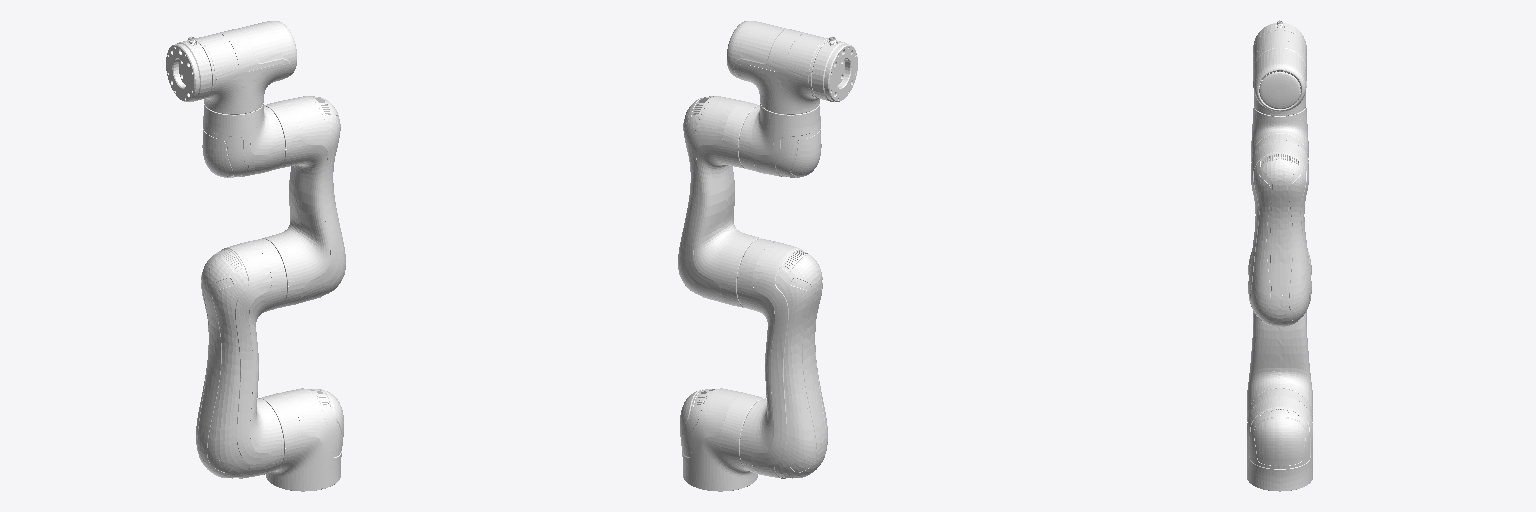
URDF robot description (me6_robot):
<?xml version="1.0" encoding="utf-8"?>
<!-- This URDF was automatically created by SolidWorks to URDF Exporter! Originally created by [author] ([email redacted]) 
     Commit Version: 1.6.0-1-g15f4949  Build Version: 1.6.7594.29634
     For more information, please see http://wiki.ros.org/sw_urdf_exporter -->
<robot
  name="me6_robot">
  <link name="dummy_link"/>
  <link
    name="base_link">
    <inertial>
      <origin
        xyz="-0.0240568795993814 0.00375533156407527 0.0319345452713943"
        rpy="0 0 0" />
      <mass
        value="0.285212529609956" />
      <inertia
        ixx="0.000396422919712692"
        ixy="-2.45771742761344E-06"
        ixz="-4.3086536609151E-05"
        iyy="0.000694067773935387"
        iyz="-1.70368663919635E-06"
        izz="0.000881589559792122" />
    </inertial>
    <visual>
      <origin
        xyz="0 0 0"
        rpy="0 0 0" />
      <geometry>
        <mesh
          filename="package://dobot_description/meshes/me6/base_link.STL" />
      </geometry>
      <material
        name="">
        <color
          rgba="1 1 1 1" />
      </material>
    </visual>
    <collision>
      <origin
        xyz="0 0 0"
        rpy="0 0 0" />
      <geometry>
        <mesh
          filename="package://dobot_description/meshes/me6/base_link.STL" />
      </geometry>
    </collision>
  </link>
  <joint
    name="dummy_joint"
    type="fixed">
    <parent
      link="dummy_link" />
    <child
      link="base_link" />
  </joint>
  <link
    name="Link1">
    <inertial>
      <origin
        xyz="-0.0083034891135278 0.000169963422442479 0.0273090165667047"
        rpy="0 0 0" />
      <mass
        value="0.0905534651015844" />
      <inertia
        ixx="0.000126000179432565"
        ixy="3.82915686953423E-07"
        ixz="2.6110576023655E-05"
        iyy="0.000106769415321957"
        iyz="-2.94192272889944E-07"
        izz="0.000110954758888466" />
    </inertial>
    <visual>
      <origin
        xyz="0 0 0"
        rpy="0 0 0" />
      <geometry>
        <mesh
          filename="package://dobot_description/meshes/me6/Link1.STL" />
      </geometry>
      <material
        name="">
        <color
          rgba="1 1 1 1" />
      </material>
    </visual>
    <collision>
      <origin
        xyz="0 0 0"
        rpy="0 0 0" />
      <geometry>
        <mesh
          filename="package://dobot_description/meshes/me6/Link1.STL" />
      </geometry>
    </collision>
  </link>
  <joint
    name="joint1"
    type="revolute">
    <origin
      xyz="0 0 0.1268"
      rpy="0 0 0" />
    <parent
      link="base_link" />
    <child
      link="Link1" />
    <axis
      xyz="0 0 1" />
    <limit
      lower="-6.28"
      upper="6.28"
      effort="0"
      velocity="0" />
  </joint>
  <link
    name="Link2">
    <inertial>
      <origin
        xyz="-3.08219150776858E-06 0.0879305908719406 0.0388340121175632"
        rpy="0 0 0" />
      <mass
        value="0.262143169591665" />
      <inertia
        ixx="0.00151705147157064"
        ixy="-9.05783800425971E-08"
        ixz="-2.30358806459891E-08"
        iyy="0.000184651484640178"
        iyz="5.92489195475674E-06"
        izz="0.00160256161333827" />
    </inertial>
    <visual>
      <origin
        xyz="0 0 0"
        rpy="0 0 0" />
      <geometry>
        <mesh
          filename="package://dobot_description/meshes/me6/Link2.STL" />
      </geometry>
      <material
        name="">
        <color
          rgba="1 1 1 1" />
      </material>
    </visual>
    <collision>
      <origin
        xyz="0 0 0"
        rpy="0 0 0" />
      <geometry>
        <mesh
          filename="package://dobot_description/meshes/me6/Link2.STL" />
      </geometry>
    </collision>
  </link>
  <joint
    name="joint2"
    type="revolute">
    <origin
      xyz="-0.046 0 0.04"
      rpy="1.5708 0 -1.5708" />
    <parent
      link="Link1" />
    <child
      link="Link2" />
    <axis
      xyz="0 0 1" />
    <limit
      lower="-2.356"
      upper="2.356"
      effort="0"
      velocity="0" />
  </joint>
  <link
    name="Link3">
    <inertial>
      <origin
        xyz="0.000287552185448503 0.071655088852445 -0.0471165778156417"
        rpy="0 0 0" />
      <mass
        value="0.165777554463868" />
      <inertia
        ixx="0.000830428352662996"
        ixy="2.8181042521152E-06"
        ixz="-9.46588589577167E-07"
        iyy="0.000136357822793152"
        iyz="3.34896030109504E-05"
        izz="0.000875008990596281" />
    </inertial>
    <visual>
      <origin
        xyz="0 0 0"
        rpy="0 0 0" />
      <geometry>
        <mesh
          filename="package://dobot_description/meshes/me6/Link3.STL" />
      </geometry>
      <material
        name="">
        <color
          rgba="1 1 1 1" />
      </material>
    </visual>
    <collision>
      <origin
        xyz="0 0 0"
        rpy="0 0 0" />
      <geometry>
        <mesh
          filename="package://dobot_description/meshes/me6/Link3.STL" />
      </geometry>
    </collision>
  </link>
  <joint
    name="joint3"
    type="revolute">
    <origin
      xyz="0 0.18906 0.003"
      rpy="0 0 0" />
    <parent
      link="Link2" />
    <child
      link="Link3" />
    <axis
      xyz="0 0 1" />
    <limit
      lower="-2.6878"
      upper="2.6878"
      effort="0"
      velocity="0" />
  </joint>
  <link
    name="Link4">
    <inertial>
      <origin
        xyz="4.09285774923343E-06 0.00868445353374203 0.0236778972827499"
        rpy="0 0 0" />
      <mass
        value="0.0513325001478492" />
      <inertia
        ixx="4.01013411471145E-05"
        ixy="-1.20578032972286E-09"
        ixz="-4.45580261969494E-09"
        iyy="4.5290271173066E-05"
        iyz="-1.00105786014305E-05"
        izz="4.79740476320818E-05" />
    </inertial>
    <visual>
      <origin
        xyz="0 0 0"
        rpy="0 0 0" />
      <geometry>
        <mesh
          filename="package://dobot_description/meshes/me6/Link4.STL" />
      </geometry>
      <material
        name="">
        <color
          rgba="1 1 1 1" />
      </material>
    </visual>
    <collision>
      <origin
        xyz="0 0 0"
        rpy="0 0 0" />
      <geometry>
        <mesh
          filename="package://dobot_description/meshes/me6/Link4.STL" />
      </geometry>
    </collision>
  </link>
  <joint
    name="joint4"
    type="revolute">
    <origin
      xyz="0 0.16 0.005"
      rpy="0 0 0" />
    <parent
      link="Link3" />
    <child
      link="Link4" />
    <axis
      xyz="0 0 1" />
    <limit
      lower="-2.7925"
      upper="2.7925"
      effort="0"
      velocity="0" />
  </joint>
  <link
    name="Link5">
    <inertial>
      <origin
        xyz="0.0105483555263245 3.64597044475367E-06 0.0262055886148362"
        rpy="0 0 0" />
      <mass
        value="0.0698692996111581" />
      <inertia
        ixx="5.60115215664426E-05"
        ixy="-7.74590413803E-09"
        ixz="8.25739718196742E-06"
        iyy="5.44754597177232E-05"
        iyz="2.95354323871408E-09"
        izz="6.26975970041226E-05" />
    </inertial>
    <visual>
      <origin
        xyz="0 0 0"
        rpy="0 0 0" />
      <geometry>
        <mesh
          filename="package://dobot_description/meshes/me6/Link5.STL" />
      </geometry>
      <material
        name="">
        <color
          rgba="1 1 1 1" />
      </material>
    </visual>
    <collision>
      <origin
        xyz="0 0 0"
        rpy="0 0 0" />
      <geometry>
        <mesh
          filename="package://dobot_description/meshes/me6/Link5.STL" />
      </geometry>
    </collision>
  </link>
  <joint
    name="joint5"
    type="revolute">
    <origin
      xyz="0 0.067 0.032"
      rpy="-1.5708 1.5708 0" />
    <parent
      link="Link4" />
    <child
      link="Link5" />
    <axis
      xyz="0 0 1" />
    <limit
      lower="-3.0194"
      upper="3.0194"
      effort="0"
      velocity="0" />
  </joint>
  <link
    name="Link6">
    <inertial>
      <origin
        xyz="-9.26807198336826E-06 0.00202791129000202 0.0111078385958137"
        rpy="0 0 0" />
      <mass
        value="0.0200378152167263" />
      <inertia
        ixx="7.30357563767904E-06"
        ixy="2.93853237811271E-09"
        ixz="2.10157561923958E-10"
        iyy="6.84457889267137E-06"
        iyz="-3.06988248779752E-08"
        izz="1.29091396053918E-05" />
    </inertial>
    <visual>
      <origin
        xyz="0 0 0"
        rpy="0 0 0" />
      <geometry>
        <mesh
          filename="package://dobot_description/meshes/me6/Link6.STL" />
      </geometry>
      <material
        name="">
        <color
          rgba="1 1 1 1" />
      </material>
    </visual>
    <collision>
      <origin
        xyz="0 0 0"
        rpy="0 0 0" />
      <geometry>
        <mesh
          filename="package://dobot_description/meshes/me6/Link6.STL" />
      </geometry>
    </collision>
  </link>
  <joint
    name="joint6"
    type="revolute">
    <origin
      xyz="-0.047 0 0.034"
      rpy="1.5708 0 -1.5708" />
    <parent
      link="Link5" />
    <child
      link="Link6" />
    <axis
      xyz="0 0 1" />
    <limit
      lower="-6.28"
      upper="6.28"
      effort="0"
      velocity="0" />
  </joint>
</robot>

--- Facts derived from the render (not from the file) ---
3 views of the same robot in one strip: view 1: azimuth 30°, elevation 25°; view 2: azimuth 150°, elevation 25°; view 3: azimuth 270°, elevation 25° (orthographic).
Robot: me6_robot — 8 links, 7 joints (6 revolute, 1 fixed); root link dummy_link; default pose: every joint at zero.
Links seen in each view (by area): view 1: Link2, Link3, Link5, Link1, Link4, Link6; view 2: Link2, Link3, Link5, Link1, Link4, Link6; view 3: Link3, Link1, Link2, Link5, Link4.
Link boxes in pixels (x1,y1,x2,y2): Link2: [196, 239, 286, 478]; Link3: [262, 96, 345, 307]; Link5: [195, 21, 296, 114]; Link1: [259, 388, 343, 491]; Link4: [202, 103, 285, 177]; Link6: [166, 36, 211, 101]; Link2: [737, 239, 827, 478]; Link3: [678, 96, 761, 307]; Link5: [727, 21, 828, 114]; Link1: [680, 388, 764, 491]; Link4: [738, 103, 821, 177]; Link6: [812, 36, 857, 101]; Link3: [1248, 134, 1311, 326]; Link1: [1247, 388, 1312, 491]; Link2: [1247, 252, 1312, 414]; Link5: [1253, 29, 1306, 115]; Link4: [1251, 108, 1308, 161].
Bounding box of the posed robot: 0.1963 × 0.081 × 0.548 m (x, y, z).
6 mesh visuals loaded from 7 distinct referenced files (6 binary STL); not drawn: 1 (reference not matched to a file when rendering).